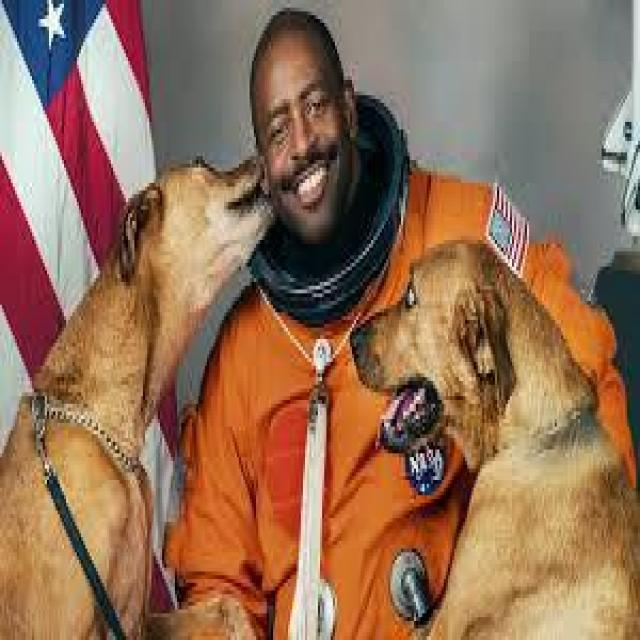dog: (5, 85, 266, 630), (349, 275, 582, 636)
